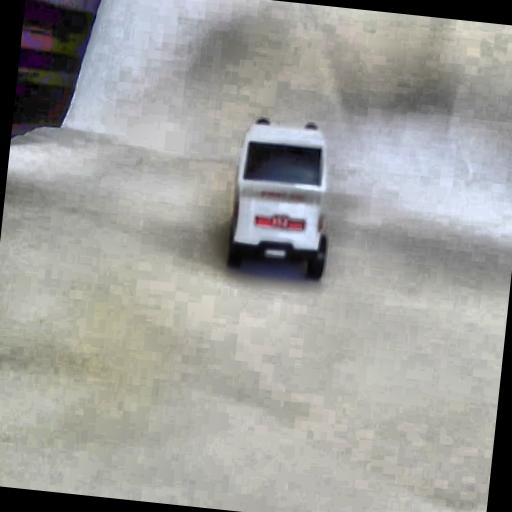ambulance: (225, 114, 340, 281)
